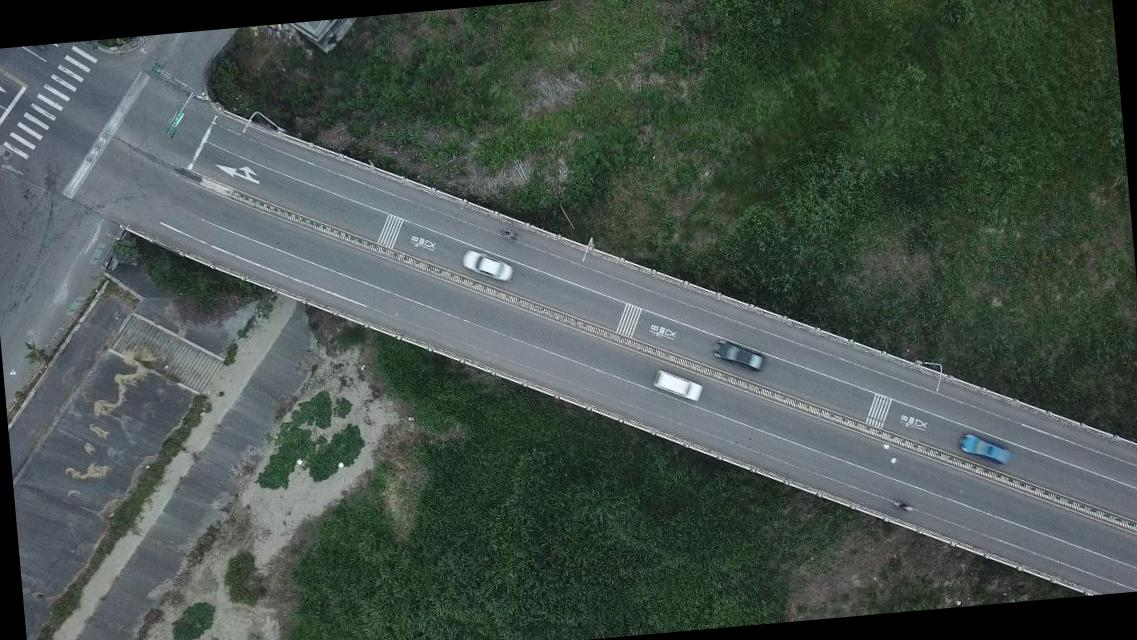vehicle: (709, 333, 766, 378), (956, 427, 1014, 470), (462, 244, 514, 289), (648, 364, 702, 407)
